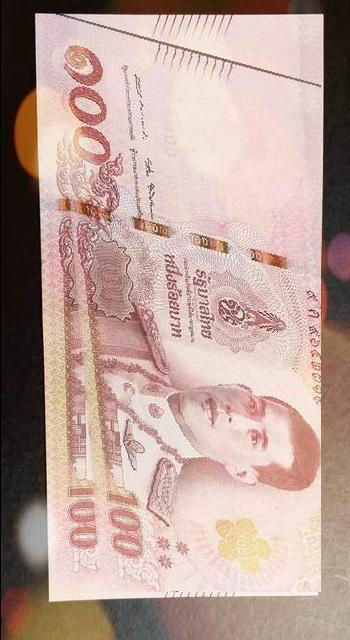100BahtTai: (54, 12, 321, 592)
